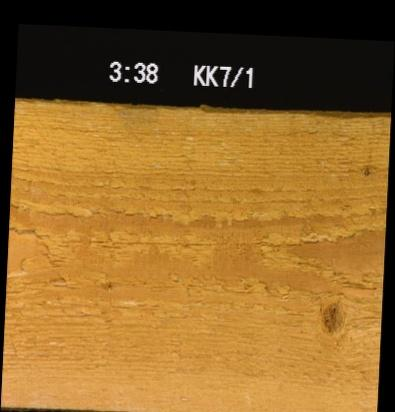small_knot: (100, 274, 115, 292), (362, 161, 369, 176)
sound_knot: (318, 293, 348, 337)
split: (87, 236, 220, 245), (344, 281, 378, 290)
wave: (14, 97, 390, 116)
